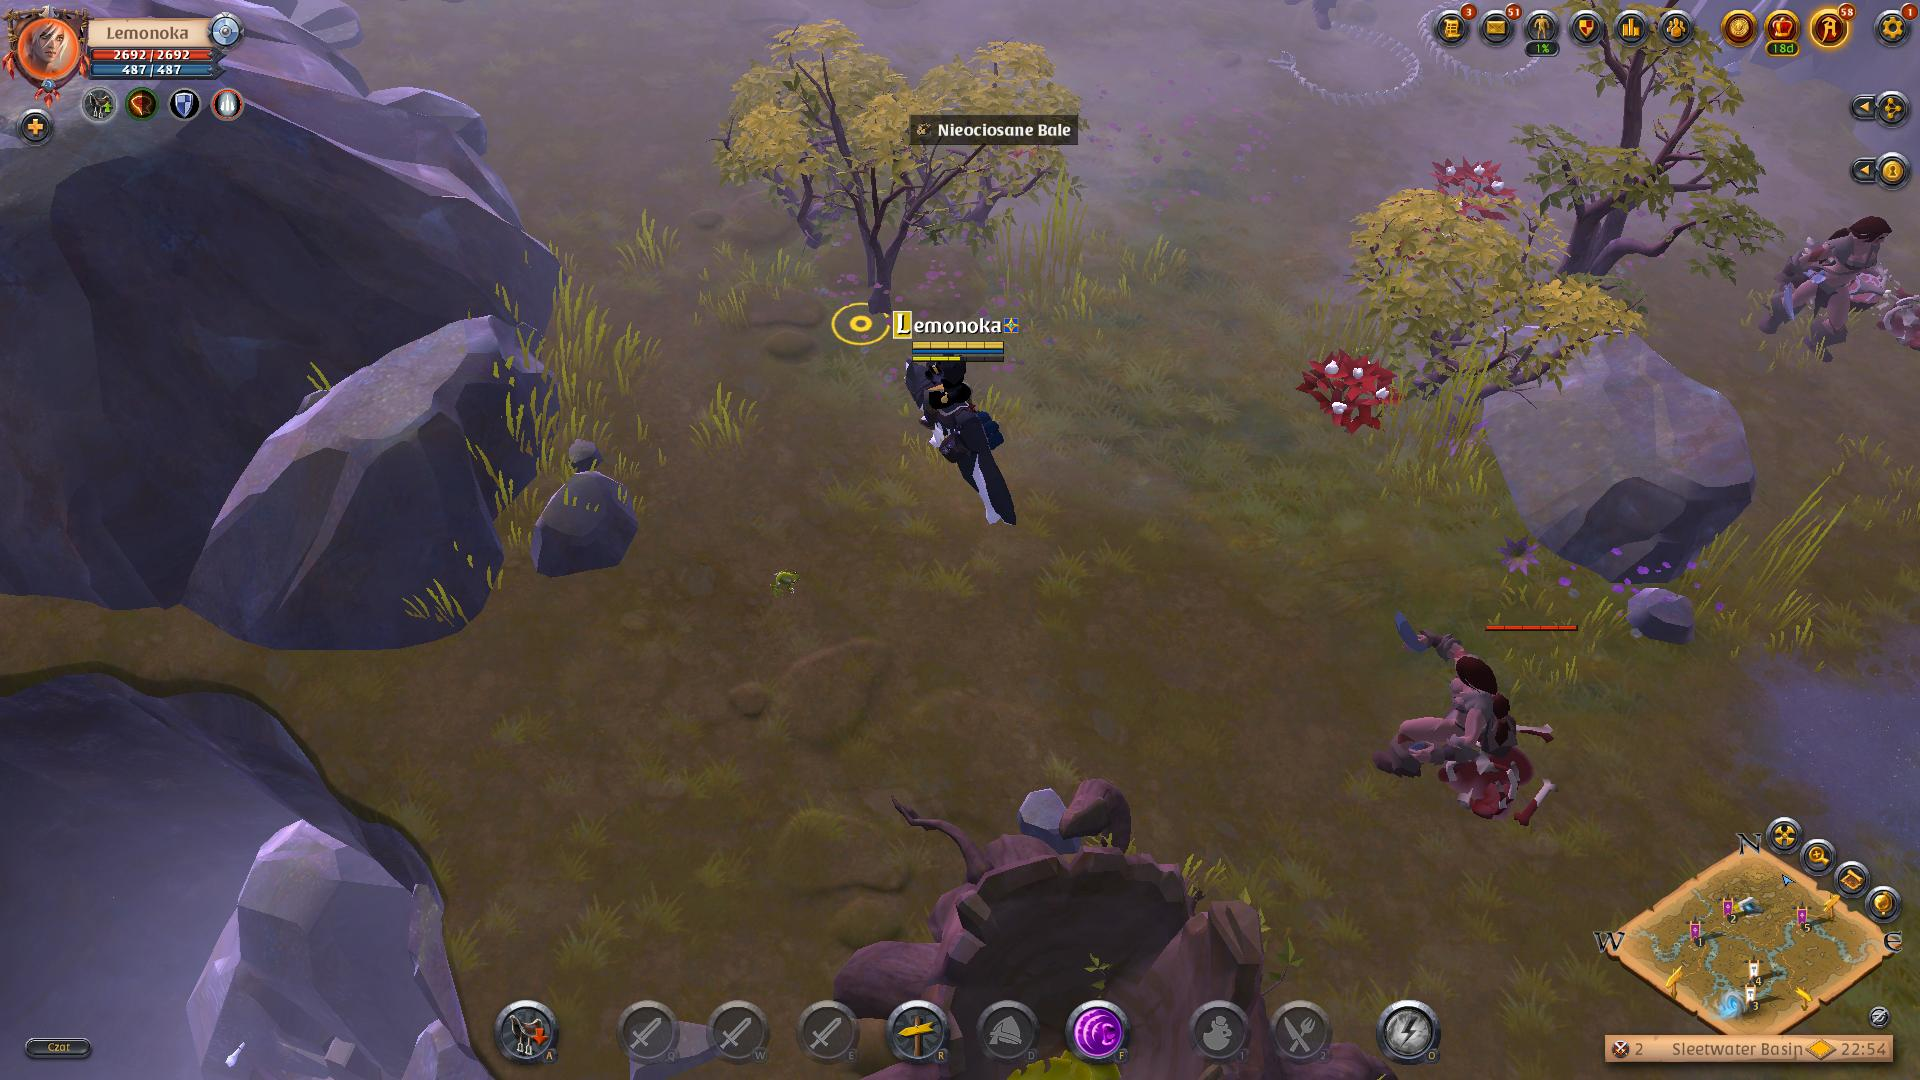fiber tier 5: (1299, 349, 1403, 438)
